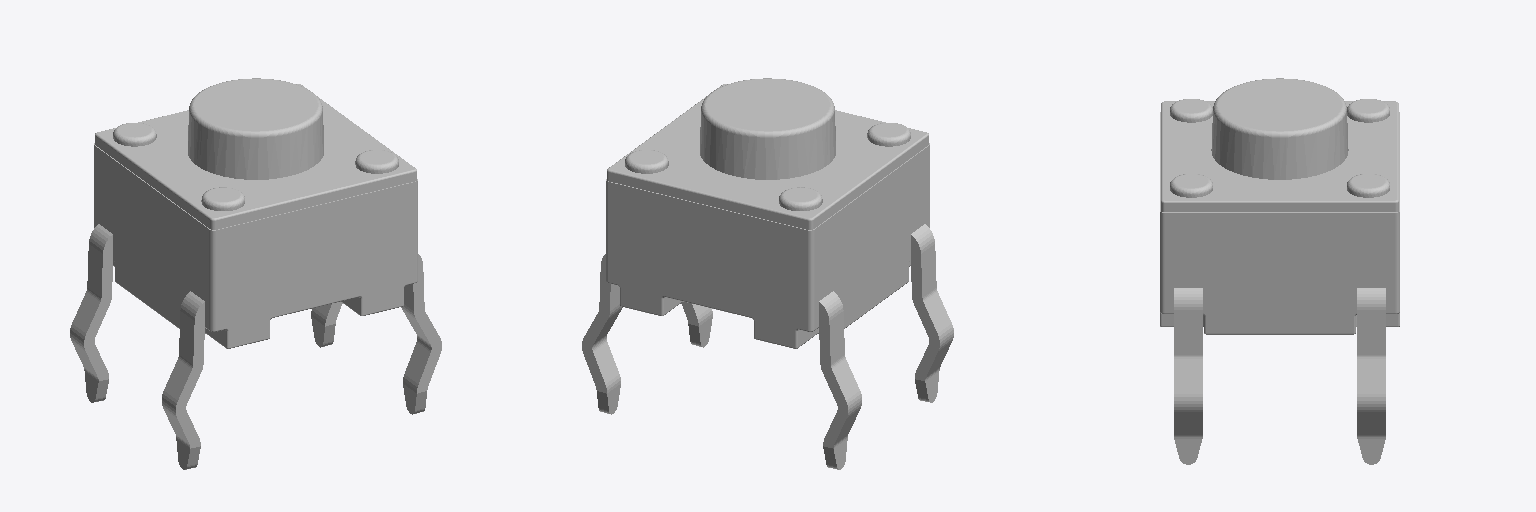
Rendered from Button.obj.
The picture shows the model from 3 angles: view 1: azimuth 30°, elevation 25°; view 2: azimuth 150°, elevation 25°; view 3: azimuth 270°, elevation 25°; orthographic projection.
Visible parts, largest first — view 1: default; view 2: default; view 3: default.
Boxes of the visible parts, x1=… form: default: x1=70, y1=78, x2=441, y2=469; default: x1=582, y1=78, x2=953, y2=469; default: x1=1160, y1=78, x2=1399, y2=464.
Bounding box in the file's own units: 7.69 × 8.33 × 6.01.